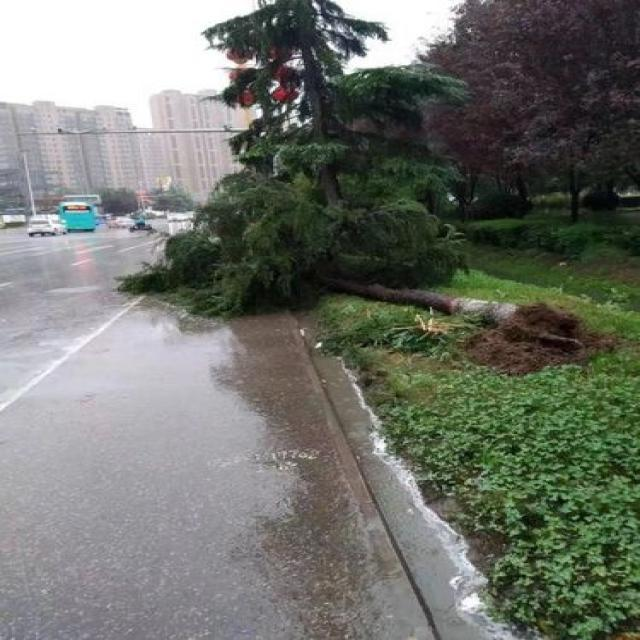fallen_object: (102, 141, 586, 350)
